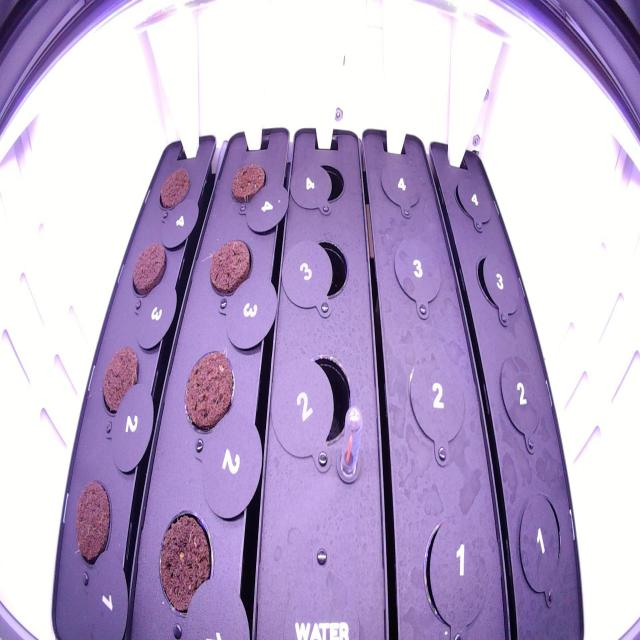empty_pod: (418, 506, 492, 637), (402, 350, 470, 473), (283, 345, 357, 458), (512, 484, 566, 612), (496, 345, 549, 450), (389, 230, 446, 321), (294, 232, 352, 307), (472, 242, 523, 327), (376, 152, 428, 220), (295, 155, 347, 219), (451, 166, 496, 235)
pod: (151, 504, 219, 627), (180, 345, 237, 438), (67, 474, 116, 580), (97, 339, 142, 422), (205, 232, 256, 302), (126, 234, 170, 307), (225, 151, 269, 208), (154, 160, 193, 218)
